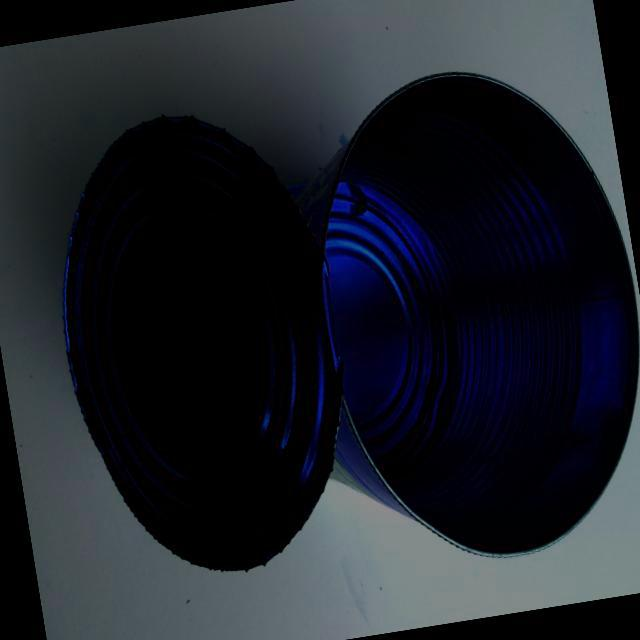metal: (21, 36, 640, 629)
